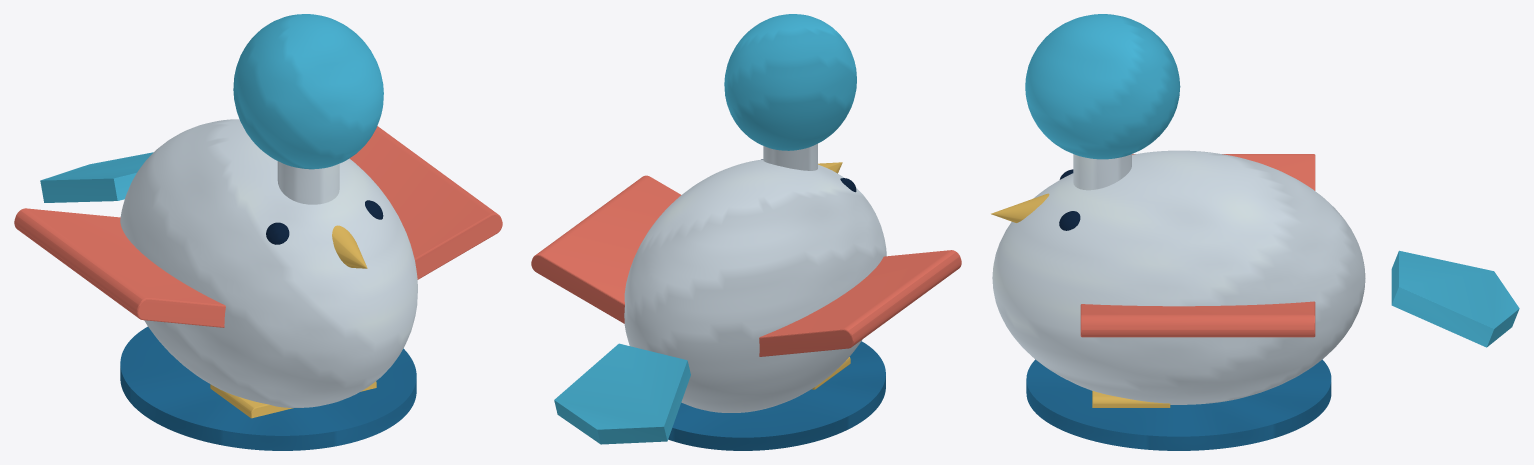
Rendered from 0077_鸟类图鉴_海鸥.glb.
The picture shows the model from 3 angles, left to right: view 1: azimuth 30°, elevation 25°; view 2: azimuth 150°, elevation 25°; view 3: azimuth 270°, elevation 25°; orthographic projection. The views are drawn at different scales.
Parts seen in each view (by area): view 1: card_0077; view 2: card_0077; view 3: card_0077.
Part boxes in pixels (left/top/right/bottom): card_0077: left=14, top=14, right=502, bottom=450; card_0077: left=531, top=14, right=961, bottom=450; card_0077: left=991, top=14, right=1519, bottom=450.
Bounding box in the file's own units: 0.972 × 1 × 1.28.
